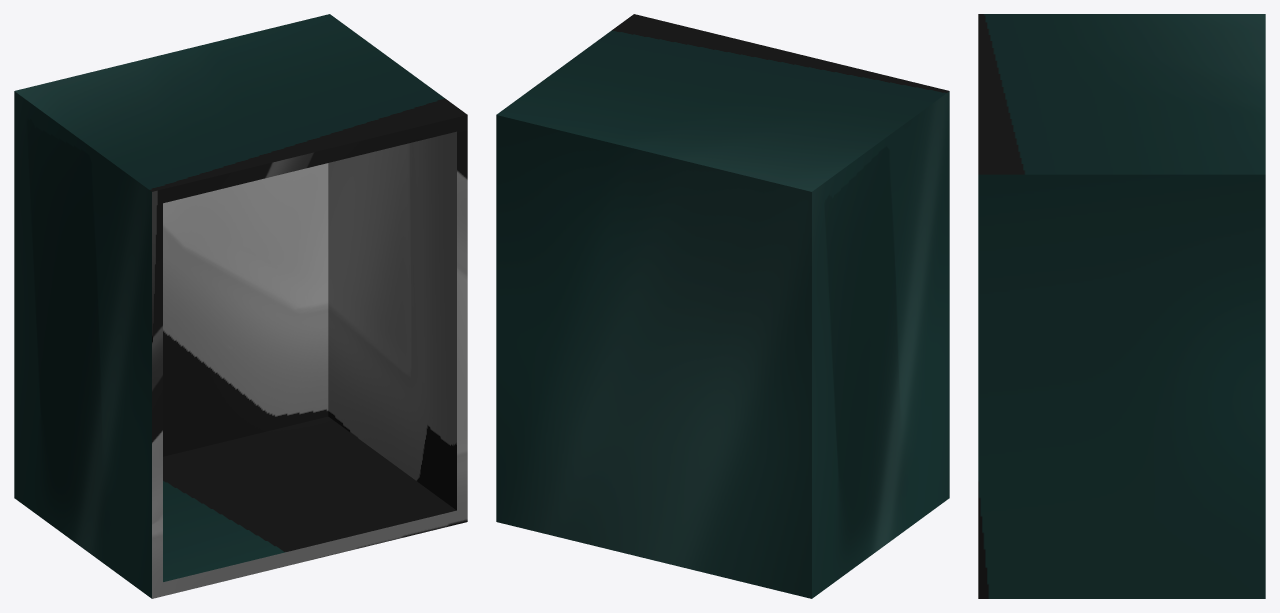
Rendered from Chest8.FBX.
The picture shows the model from 3 angles, left to right: view 1: azimuth 30°, elevation 25°; view 2: azimuth 150°, elevation 25°; view 3: azimuth 270°, elevation 25°; orthographic projection. The views are drawn at different scales.
Visible parts, largest first — view 1: chestbox8; view 2: chestbox8; view 3: chestbox8.
Boxes of the visible parts, x1,y1,x2,y2 form: chestbox8: [14, 14, 467, 598]; chestbox8: [496, 14, 949, 598]; chestbox8: [978, 14, 1265, 598].
Bounding box in the file's own units: 19.21 × 23.68 × 14.54.
1 material, 1 textured.
